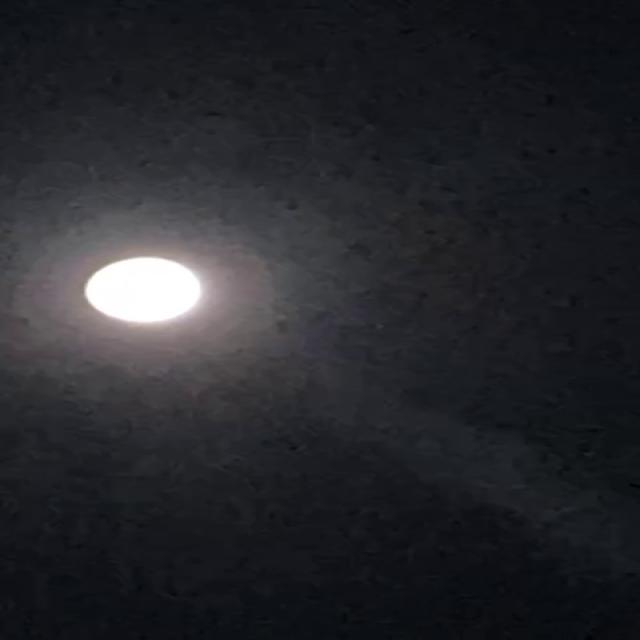moon: (72, 255, 210, 331)
